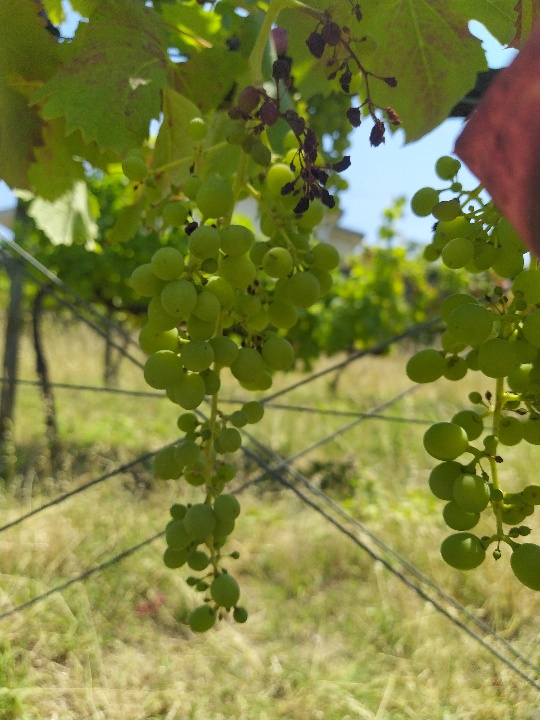grape: (107, 212, 342, 636), (407, 153, 540, 597), (228, 5, 406, 220)
